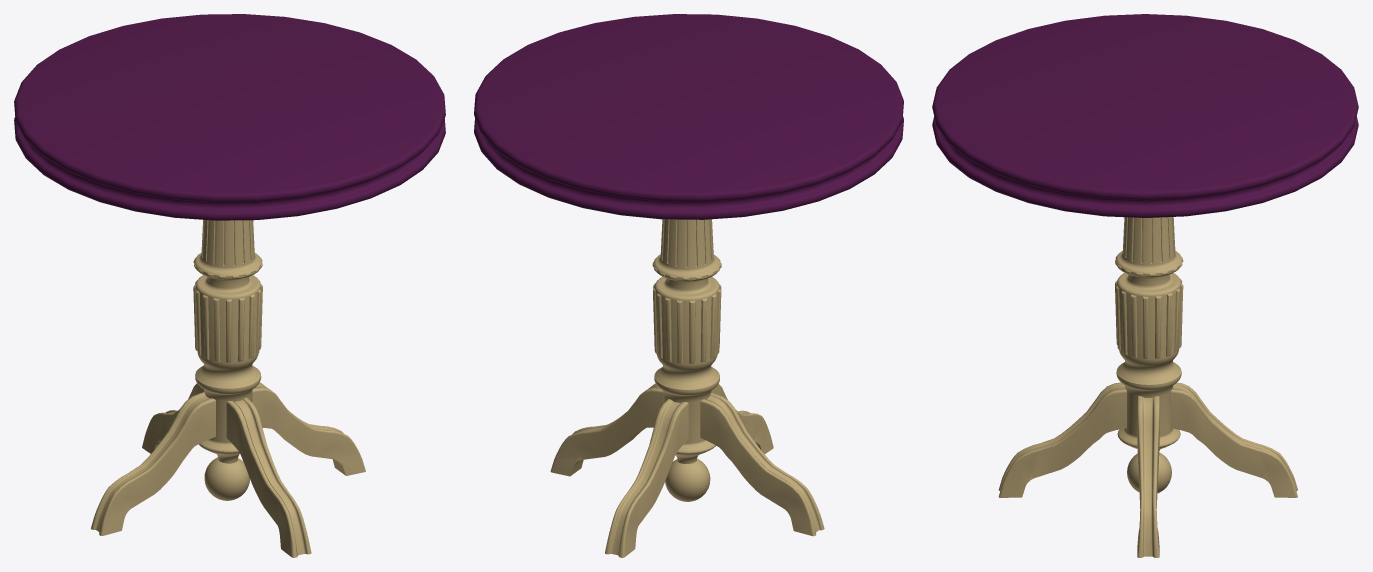
The model's file is table2.glb.
3 renders of one model, left to right at view 1: azimuth 30°, elevation 25°; view 2: azimuth 150°, elevation 25°; view 3: azimuth 270°, elevation 25°, orthographic.
Parts seen in each view (by area): view 1: Cube035_Cube019_0; view 2: Cube035_Cube019_0; view 3: Cube035_Cube019_0.
Part boxes in pixels (left/top/right/bottom): Cube035_Cube019_0: left=14, top=14, right=445, bottom=557; Cube035_Cube019_0: left=474, top=14, right=903, bottom=557; Cube035_Cube019_0: left=932, top=14, right=1358, bottom=557.
Size of the model in its own units: 0.8254 by 0.8363 by 0.8254.
